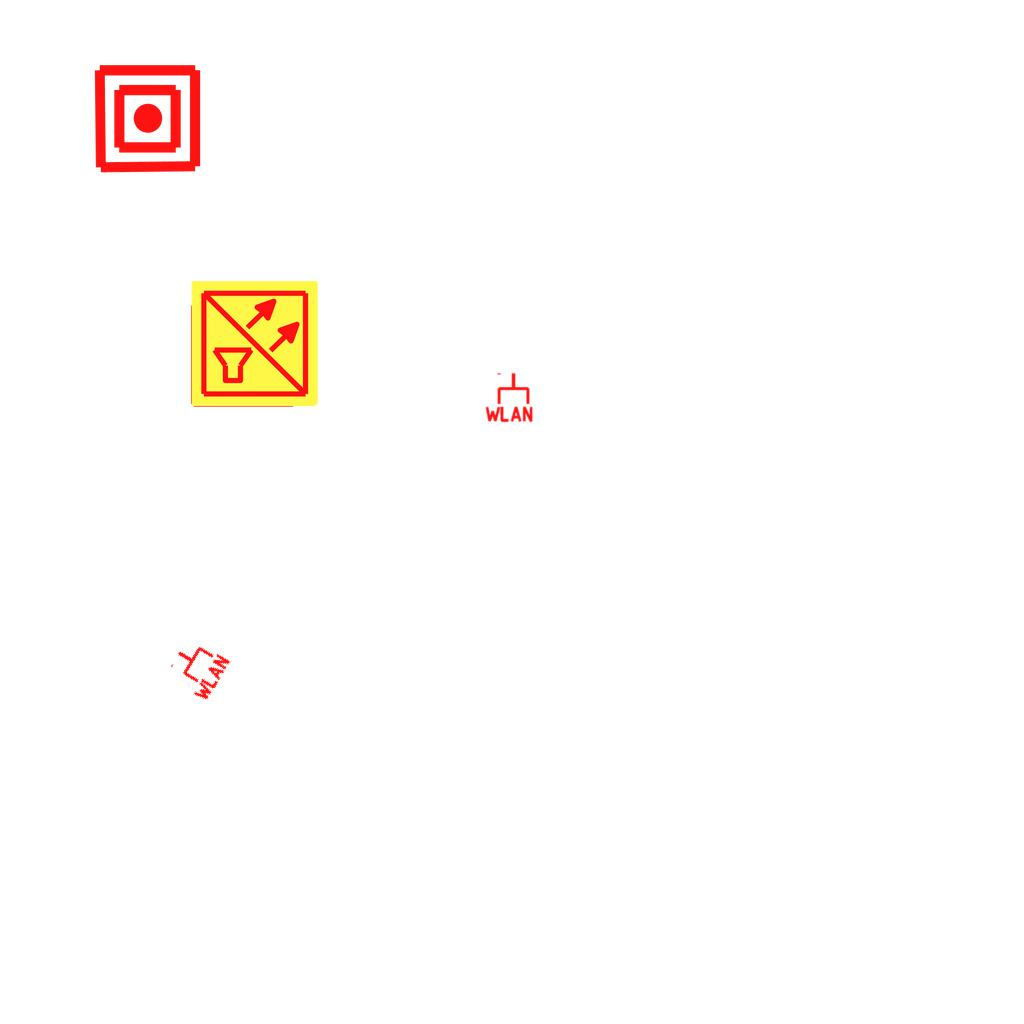NAM-Nichtautomatischer_Melder: (91, 62, 204, 175)
OKW_Multisensormelder_(Kombination_optischer_Rauch-Kahlenmonoxid_Waerme-Melder): (189, 278, 321, 410)
WLAN: (161, 633, 233, 705), (483, 371, 535, 423)
